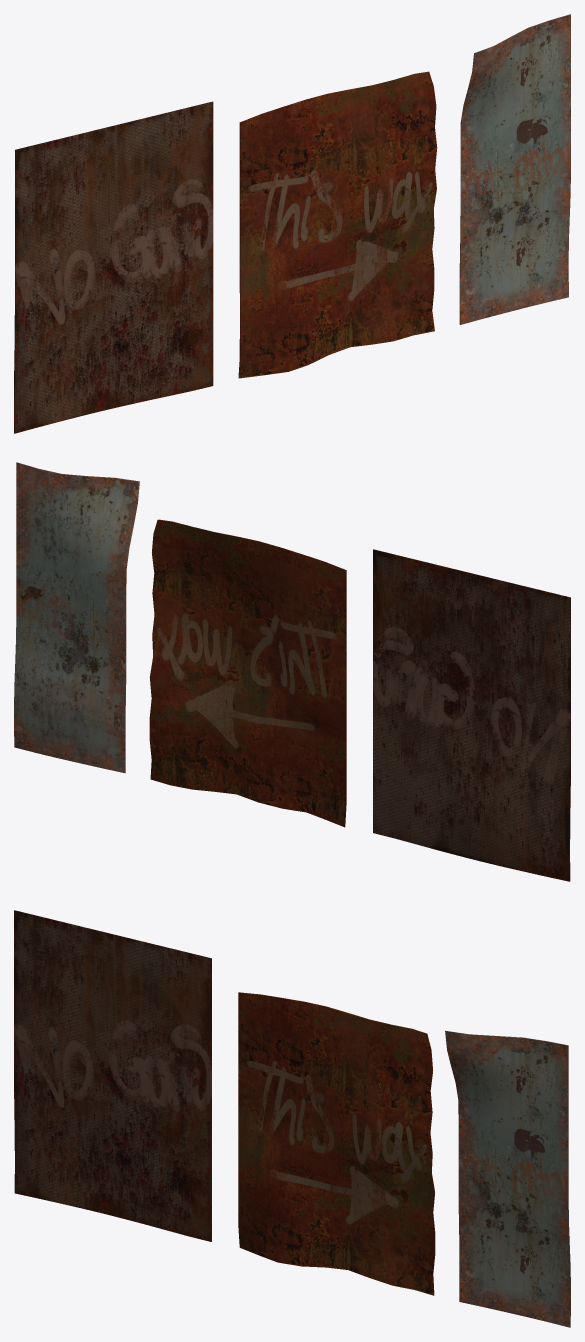
File: post_apocalyptic_style_rusted_metal_sheets.glb
3 renders of one model, top to bottom at view 1: azimuth 30°, elevation 25°; view 2: azimuth 150°, elevation 25°; view 3: azimuth 330°, elevation 25°, orthographic.
Parts seen in each view (by area): view 1: Cube.003, Cube.001, Cube.002; view 2: Cube.003, Cube.001, Cube.002; view 3: Cube.003, Cube.001, Cube.002.
Boxes of the visible parts, x1=… form: Cube.003: x1=14, y1=101, x2=213, y2=433; Cube.001: x1=238, y1=71, x2=437, y2=378; Cube.002: x1=459, y1=14, x2=570, y2=324; Cube.003: x1=373, y1=549, x2=570, y2=881; Cube.001: x1=149, y1=519, x2=346, y2=827; Cube.002: x1=14, y1=462, x2=139, y2=773; Cube.003: x1=14, y1=910, x2=211, y2=1241; Cube.001: x1=238, y1=992, x2=435, y2=1295; Cube.002: x1=445, y1=1030, x2=570, y2=1327.
Size of the model in its own units: 5.61 by 2.74 by 0.3072.
Materials: 1 (1 with a texture image).
